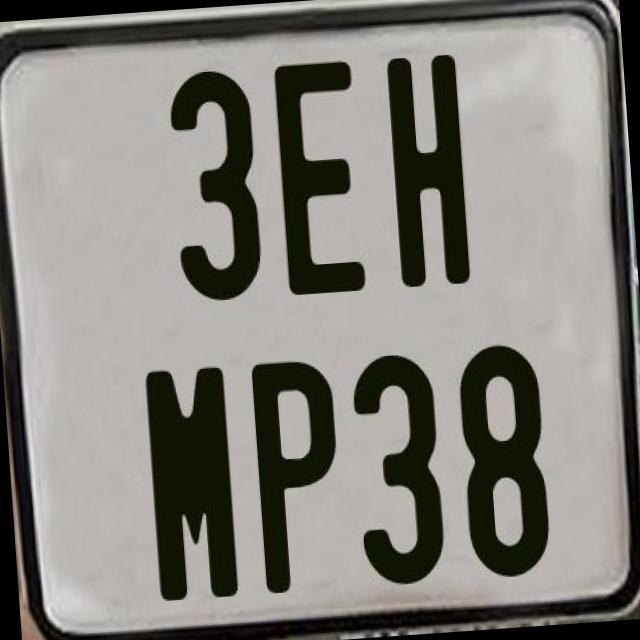3: (165, 68, 268, 304), (346, 348, 444, 584)
8: (454, 338, 558, 576)
E: (271, 59, 365, 298)
H: (386, 49, 477, 292)
M: (144, 360, 238, 600)
P: (246, 355, 344, 598)
